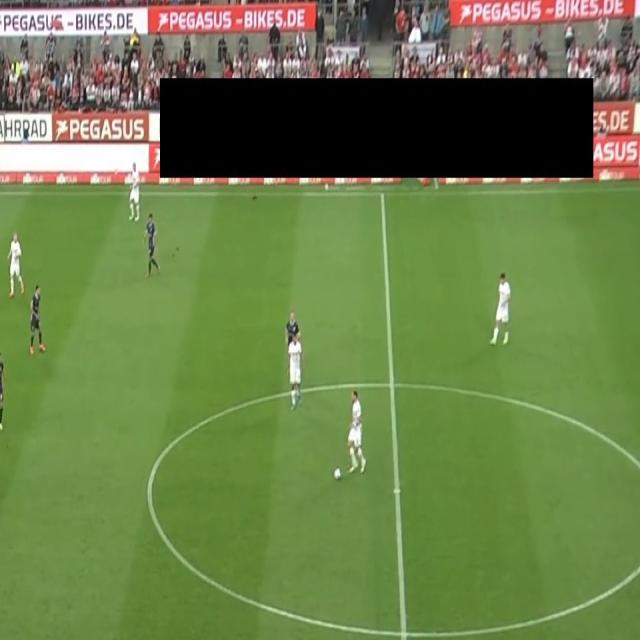ball: (333, 466, 342, 482)
